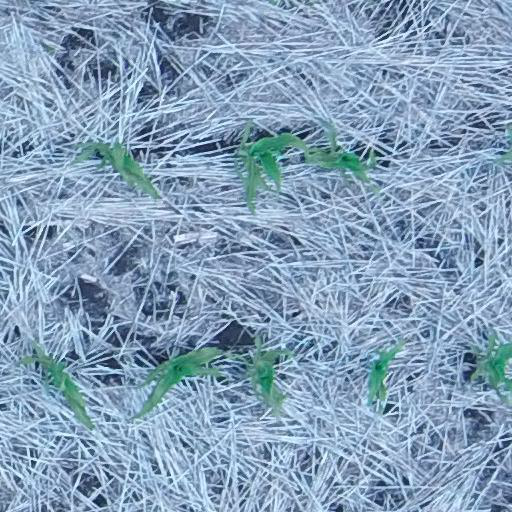planta: (15, 336, 95, 431), (133, 344, 228, 419), (235, 117, 309, 213), (67, 138, 161, 200), (235, 329, 297, 421), (299, 118, 371, 185), (464, 332, 511, 406), (364, 336, 411, 406)
